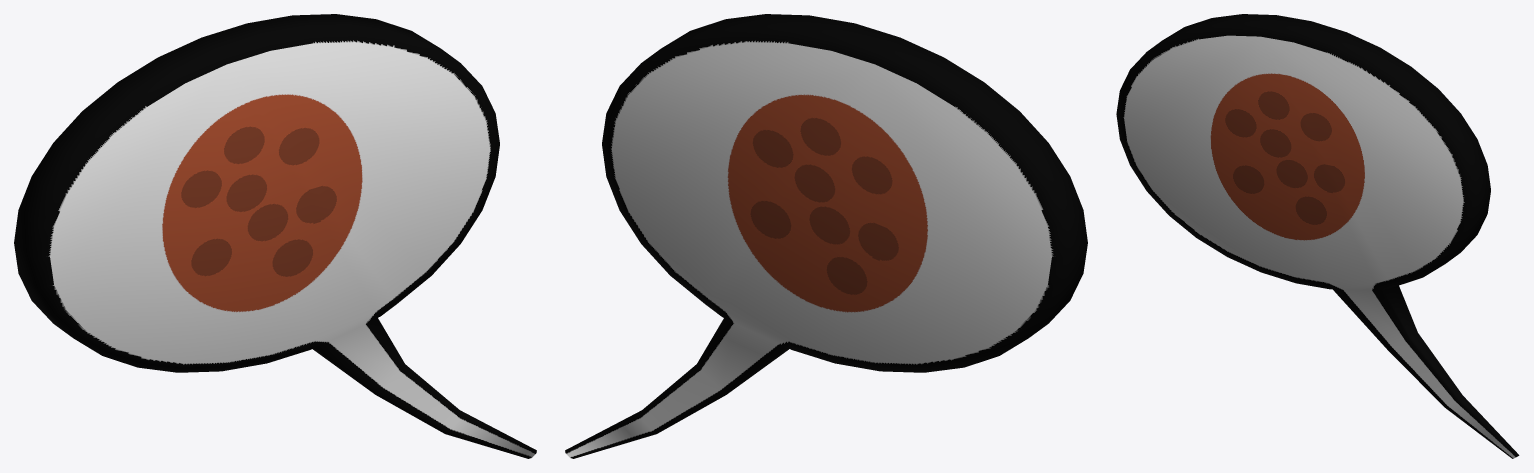
Rendered from SpicyPizzaRequest.fbx.
3 renders of one model, left to right at view 1: azimuth 30°, elevation 25°; view 2: azimuth 150°, elevation 25°; view 3: azimuth 330°, elevation 25°, orthographic. The views are drawn at different scales.
Parts seen in each view (by area): view 1: SpicyPizzaRequest; view 2: SpicyPizzaRequest; view 3: SpicyPizzaRequest.
Boxes of the visible parts, x1,y1,x2,y2 form: SpicyPizzaRequest: (14,14,536,458); SpicyPizzaRequest: (565,14,1087,458); SpicyPizzaRequest: (1116,14,1519,458).
Bounding box in the file's own units: 220 × 203 × 19.37.
